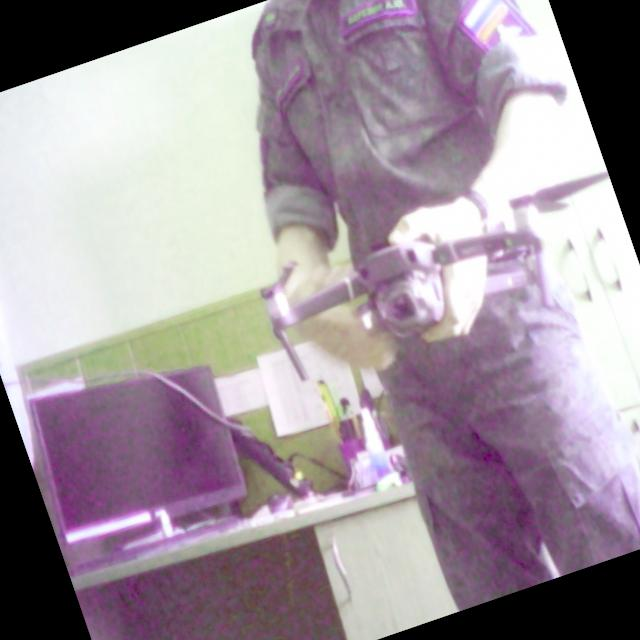drone: (226, 146, 624, 400)
